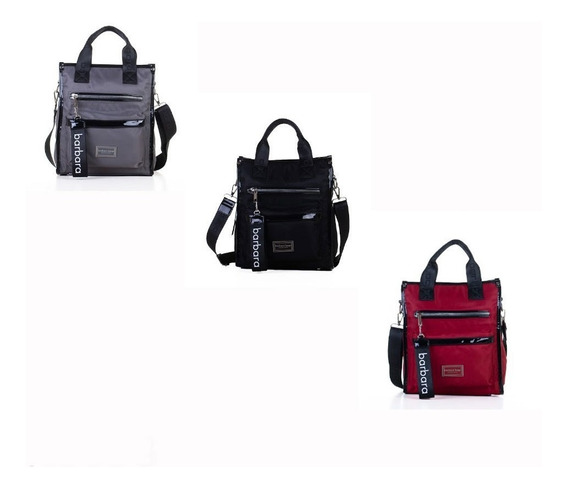cartera: (399, 238, 508, 397), (233, 117, 338, 272), (52, 25, 158, 178)
